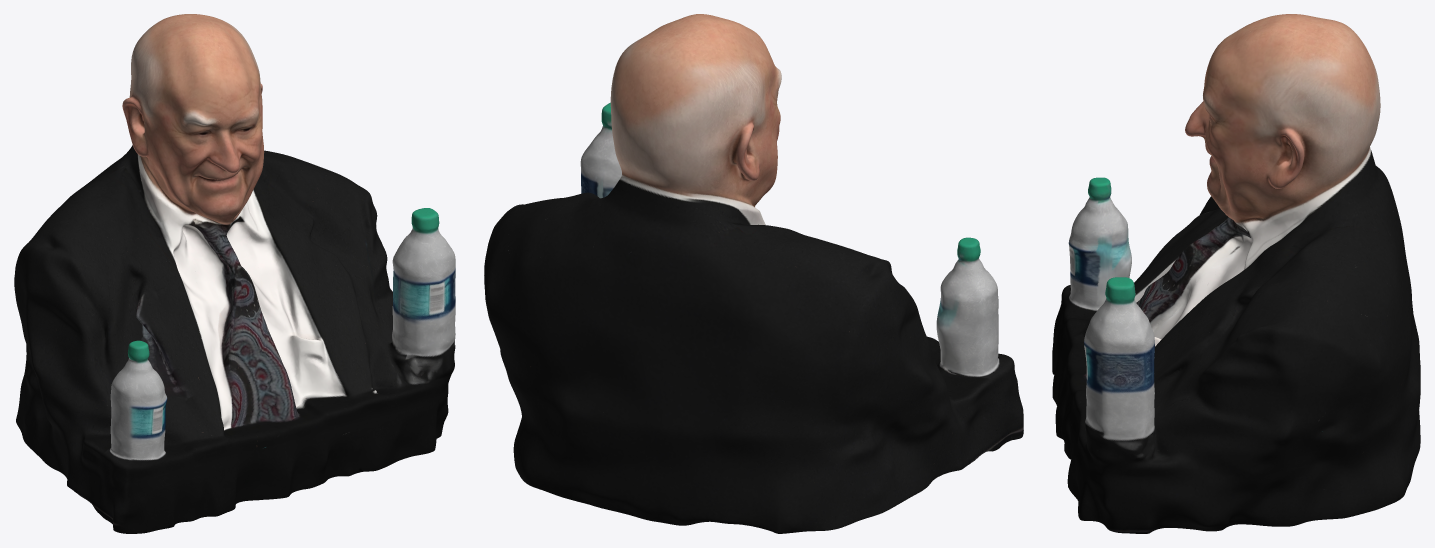
File: Meshy_AI_Book_Expo_Panelist_1025154239_texture.glb
3 renders of one model, left to right at view 1: azimuth 30°, elevation 25°; view 2: azimuth 150°, elevation 25°; view 3: azimuth 270°, elevation 25°, orthographic. The views are drawn at different scales.
Size of the model in its own units: 1.86 by 1.9 by 1.49.
1 material, 1 textured.
